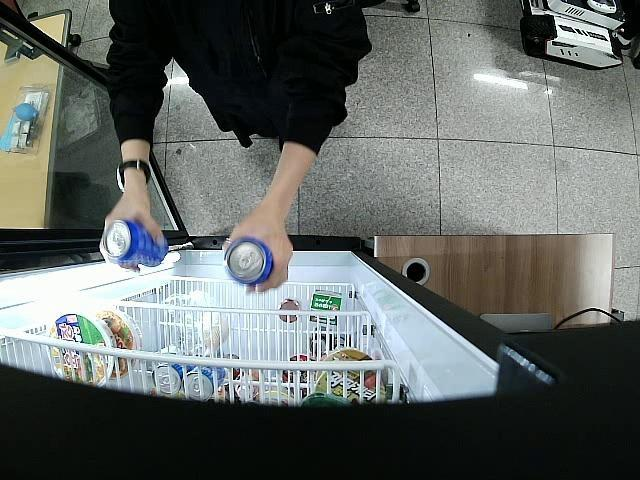13_pocariSweat: (101, 219, 166, 268), (225, 238, 274, 284)
